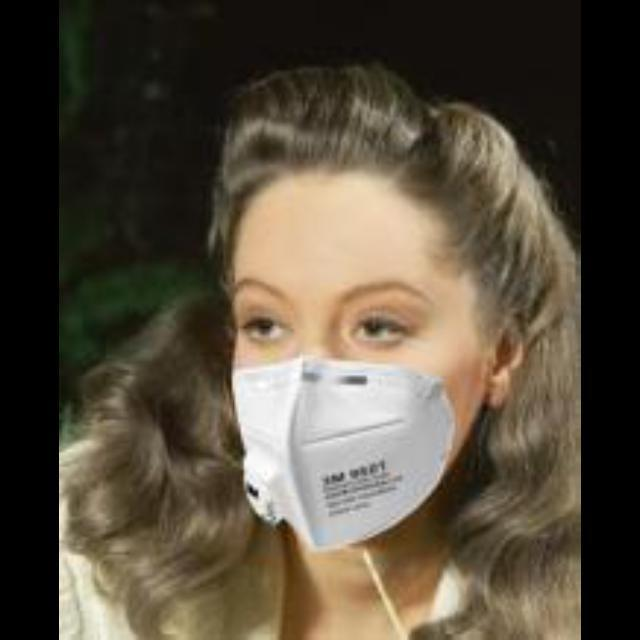suspicion: (184, 155, 512, 545)
